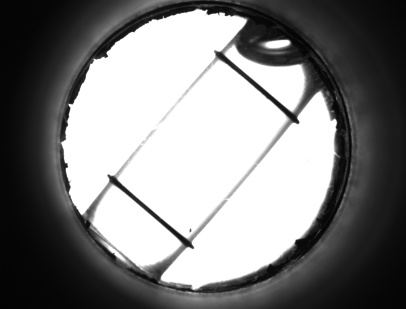line: (118, 192, 180, 228), (230, 71, 287, 102)
